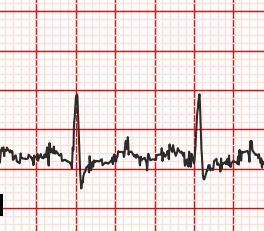ST Depression: (67, 153, 92, 192)
